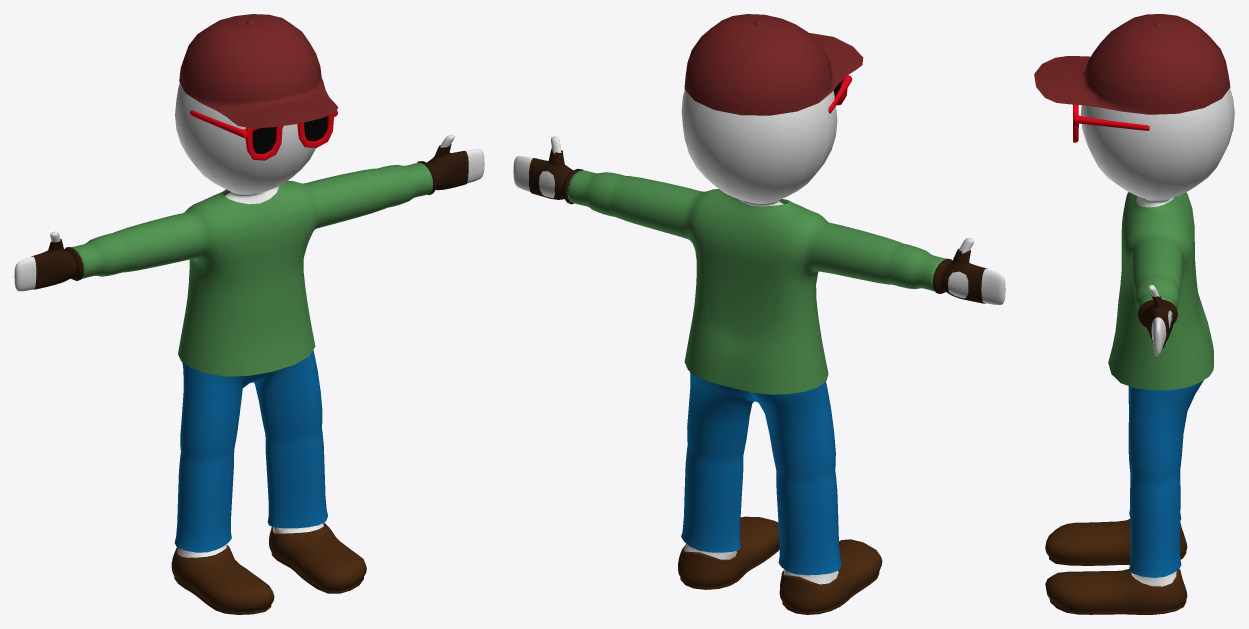
Rendered from character-fake.glb.
3 renders of one model, left to right at view 1: azimuth 30°, elevation 25°; view 2: azimuth 150°, elevation 25°; view 3: azimuth 270°, elevation 25°, orthographic. The views are drawn at different scales.
Parts seen in each view (by area): view 1: basic.001, cap, Character, basic, mitaines, glasses; view 2: basic.001, Character, cap, basic, mitaines; view 3: basic.001, cap, Character, basic, mitaines, glasses.
Part boxes in pixels (x1,y1,x2,y2): basic.001: (71, 162, 433, 552); cap: (179, 14, 338, 128); Character: (14, 83, 484, 557); basic: (171, 522, 366, 614); mitaines: (31, 144, 468, 289); glasses: (190, 110, 337, 160); basic.001: (567, 170, 946, 575); Character: (513, 90, 1005, 584); cap: (684, 14, 863, 115); basic: (678, 516, 882, 614); mitaines: (529, 148, 987, 303); basic.001: (1108, 192, 1213, 577); cap: (1034, 14, 1230, 114); Character: (1080, 88, 1234, 586); basic: (1045, 519, 1187, 614); mitaines: (1137, 293, 1177, 348); glasses: (1073, 104, 1149, 142).
Size of the model in its own units: 3.35 by 3.71 by 1.21.
